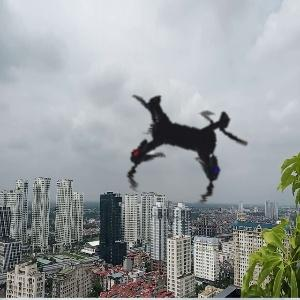drone: (76, 31, 300, 255)
